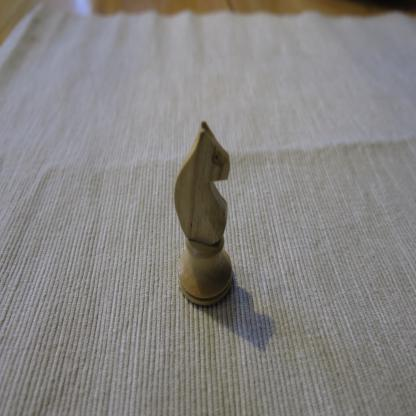white-knight: (172, 120, 233, 309)
